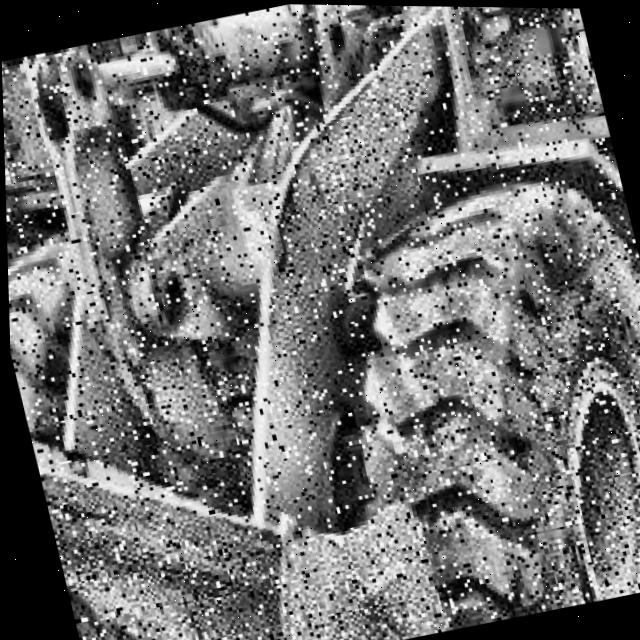buldozerpayloadergrader: (0, 0, 640, 640), (1, 24, 270, 489)
